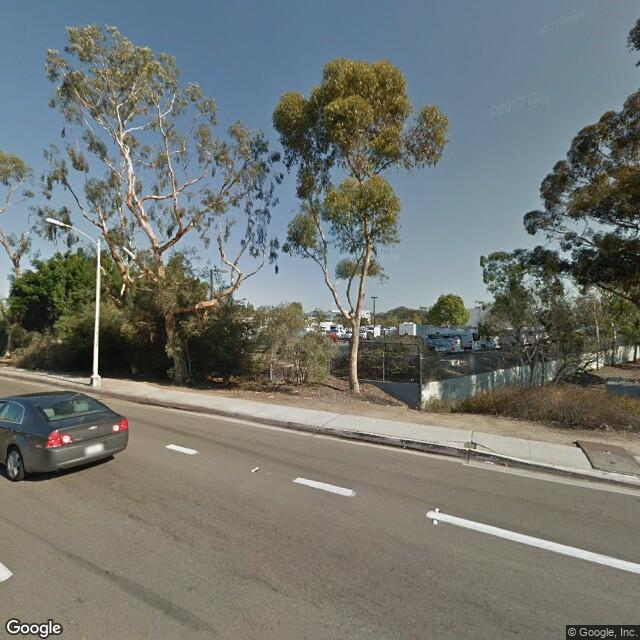litter: (483, 456, 498, 467)
